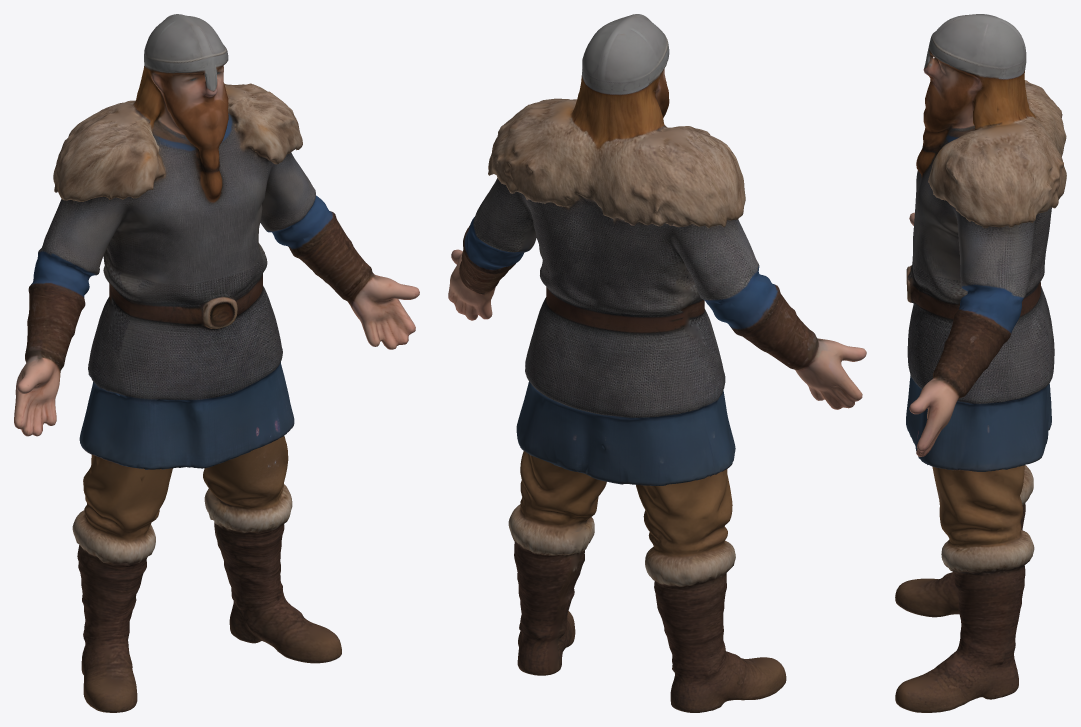
The model's file is source_hunyuan.glb.
The picture shows the model from 3 angles, left to right: view 1: azimuth 30°, elevation 25°; view 2: azimuth 150°, elevation 25°; view 3: azimuth 270°, elevation 25°; orthographic projection. The views are drawn at different scales.
Parts seen in each view (by area): view 1: material; view 2: material; view 3: material.
Part boxes in pixels (x1,y1,x2,y2): material: (14,14,419,712); material: (448,14,866,712); material: (895,14,1066,712).
Size of the model in its own units: 0.7233 by 1.11 by 0.269.
1 material, 1 textured.
